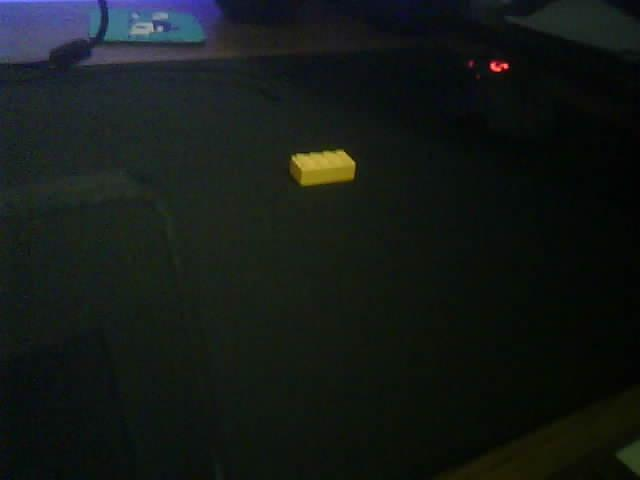lego: (288, 148, 357, 186)
